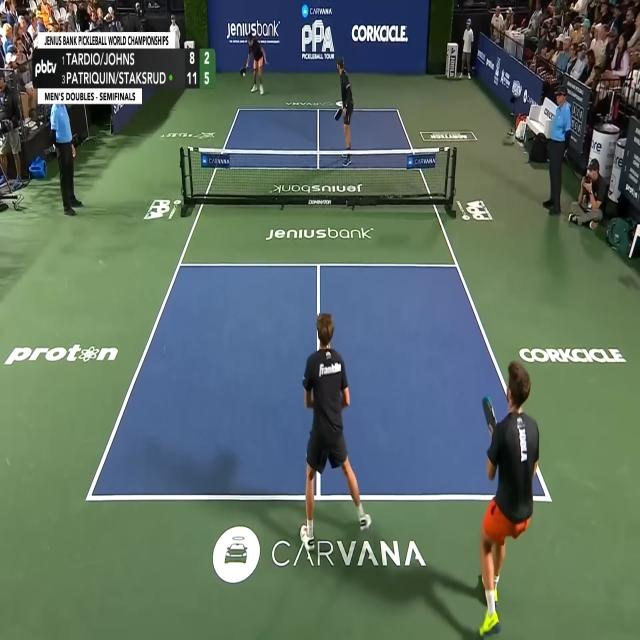ball: (242, 72, 246, 78)
